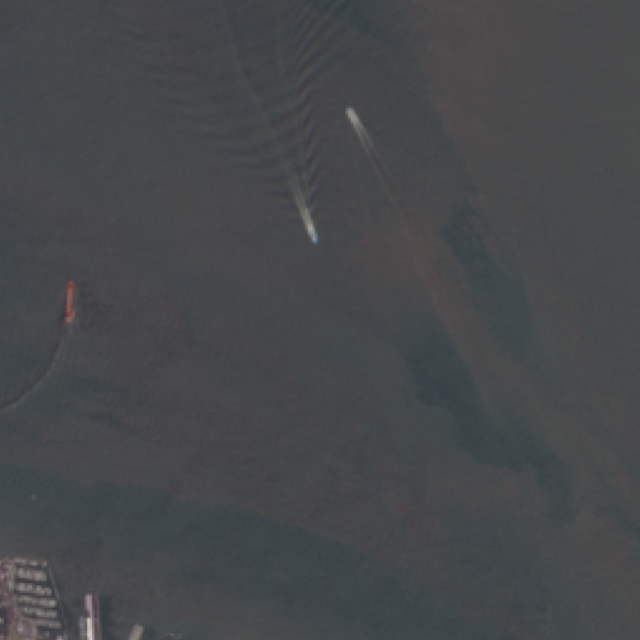wake: (178, 19, 384, 279)
